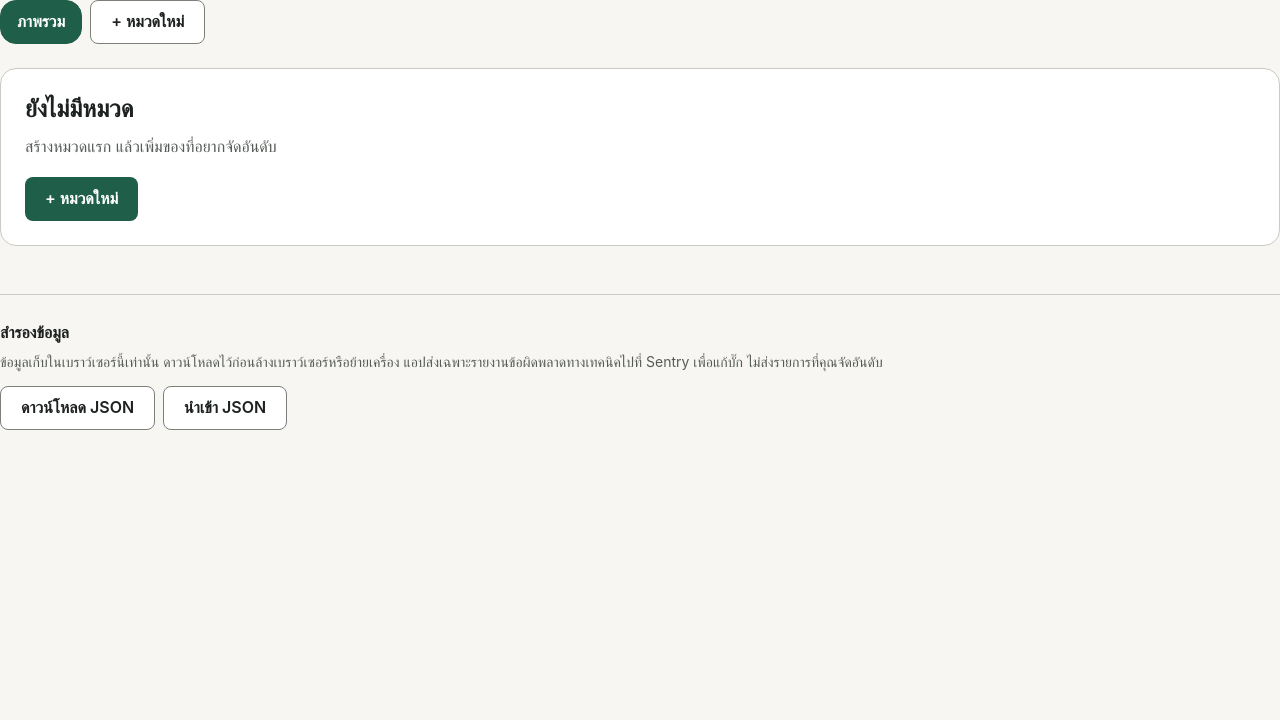
Test: TierBoard › shows an empty overview with a create button
Check: the heading "ยังไม่มีหมวด" is shown, box [25,94,133,123]
Click the button "+ หมวดใหม่" below "ยังไม่มีหมวด": coordinates (82, 199) [25,177,138,221]
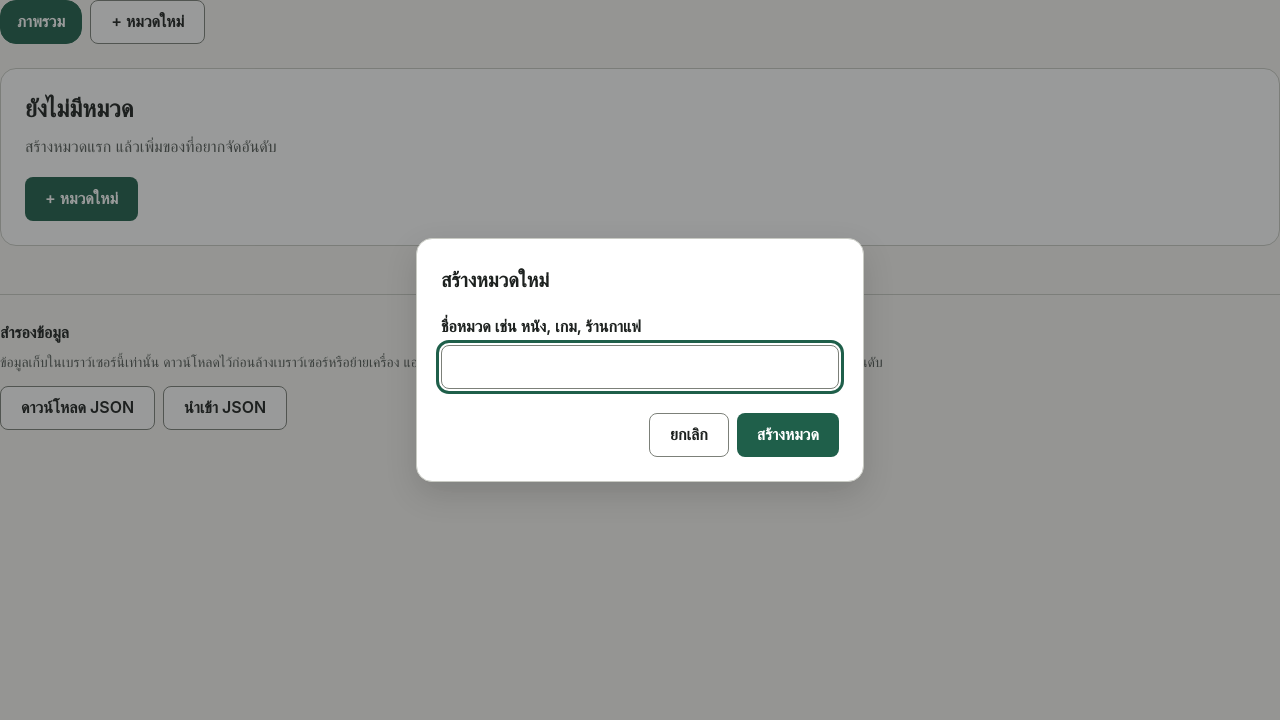
In the field: coordinates (640, 367) [441,345,839,389], type "เกม"
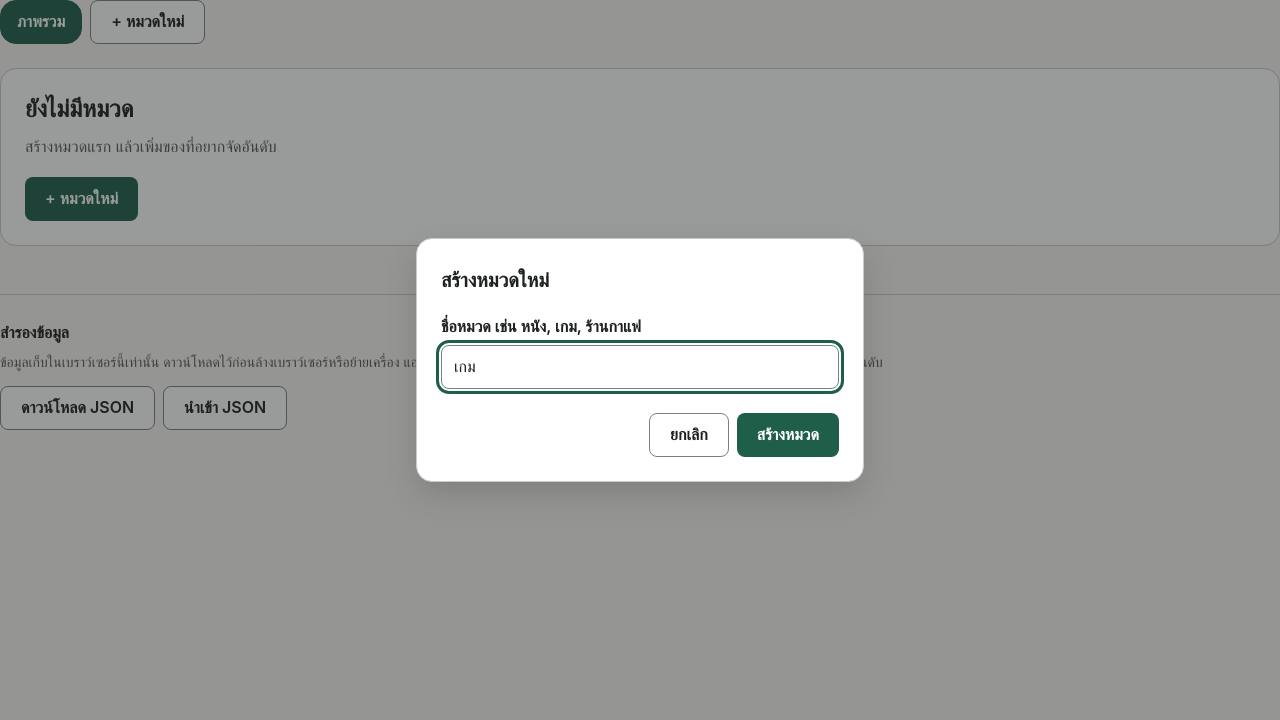
Submit the form, box [441,263,839,457]
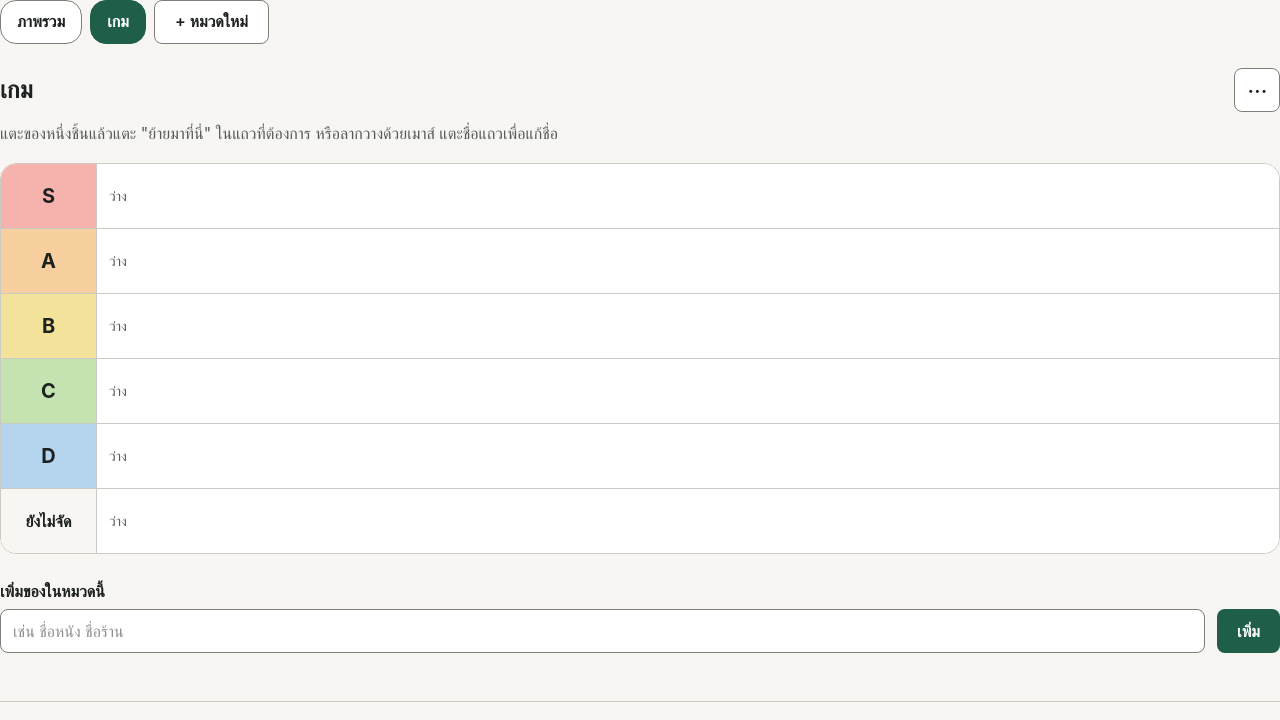
Check: the heading "เกม" is shown, box [0,74,33,106]
